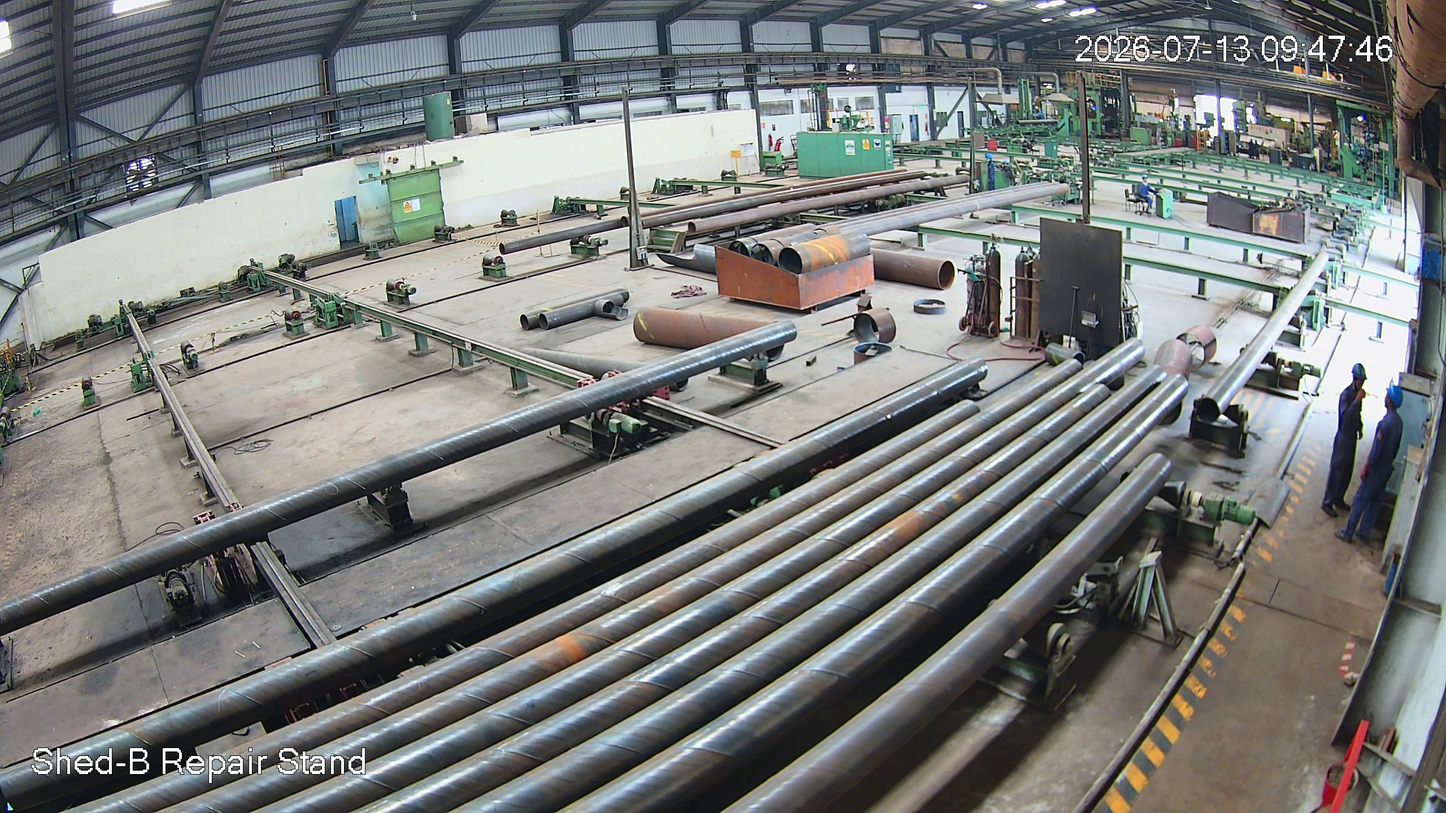Helmet: (1343, 358, 1380, 399), (1382, 388, 1410, 428)
Person: (1347, 393, 1409, 544), (1319, 363, 1375, 526)
